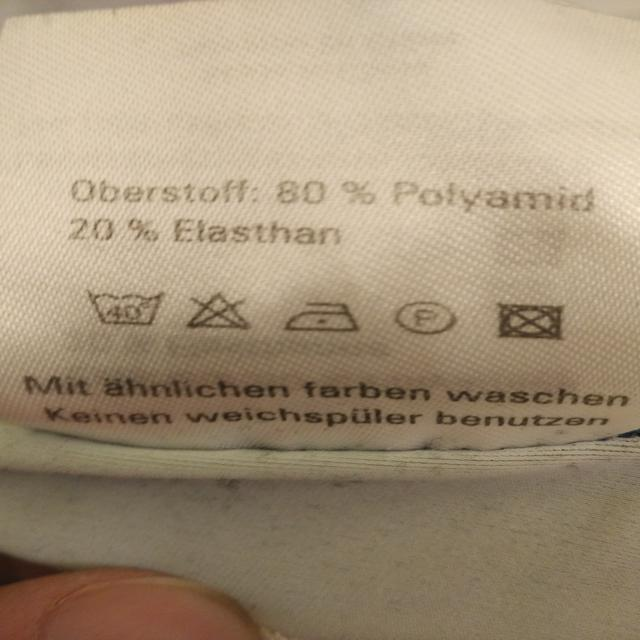40C: (87, 287, 171, 329)
DN_bleach: (184, 292, 252, 333)
DN_tumble_dry: (493, 301, 572, 344)
dry_clean_any_solvent_except_trichloroethylene: (389, 296, 462, 345)
iron_low: (281, 300, 363, 336)
